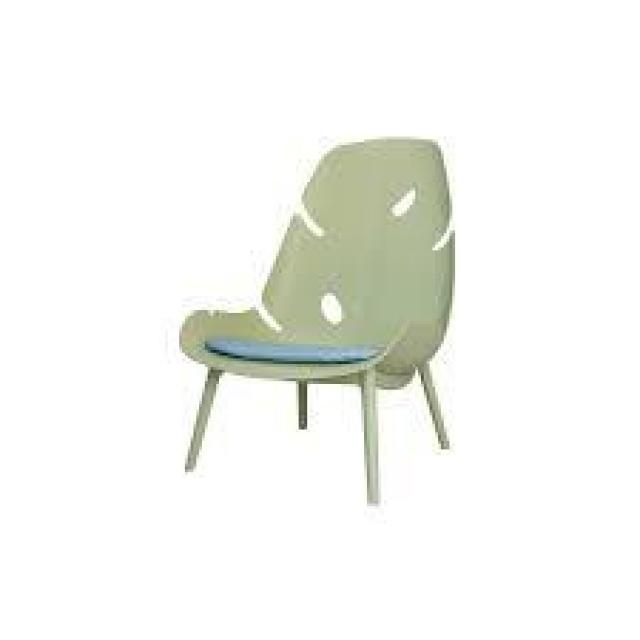chair: (128, 121, 466, 522)
